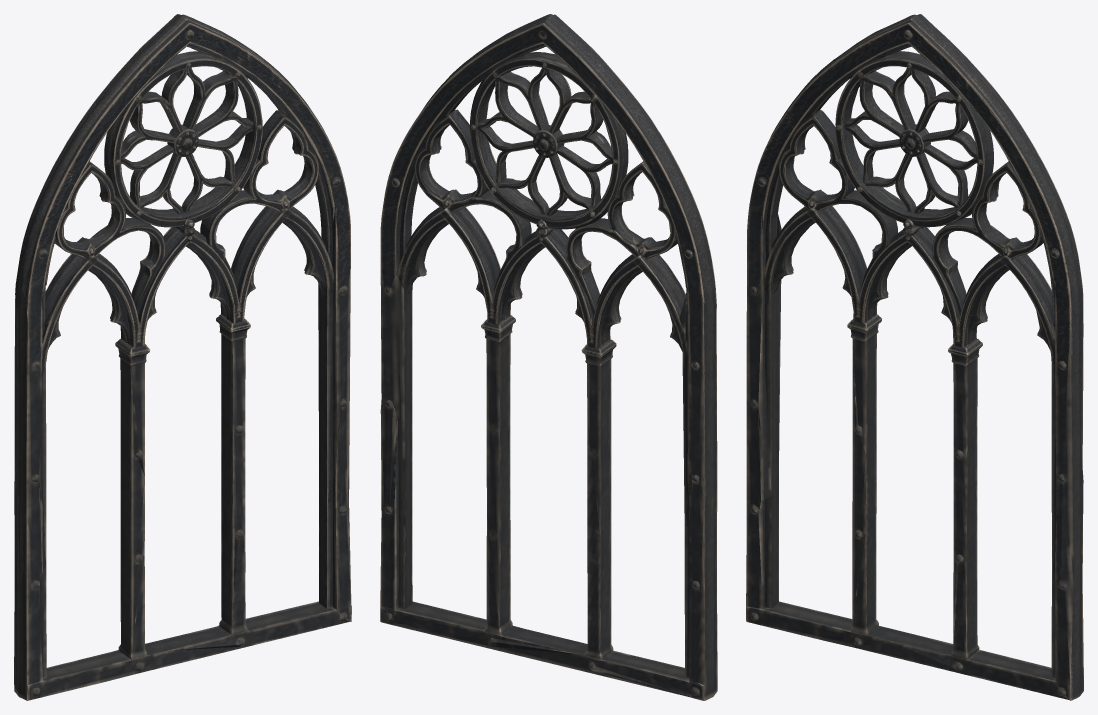
Rendered from window_gothic_wide.glb.
3 renders of one model, left to right at view 1: azimuth 30°, elevation 25°; view 2: azimuth 150°, elevation 25°; view 3: azimuth 330°, elevation 25°, orthographic.
Visible parts, largest first — view 1: output_unwrapped; view 2: output_unwrapped; view 3: output_unwrapped.
Boxes of the visible parts, <box> form: output_unwrapped: <box>14,14,351,700</box>; output_unwrapped: <box>380,14,717,700</box>; output_unwrapped: <box>746,14,1083,700</box>.
Bounding box in the file's own units: 1.02 × 1.9 × 0.0984.
Materials: 1 (1 with a texture image).
